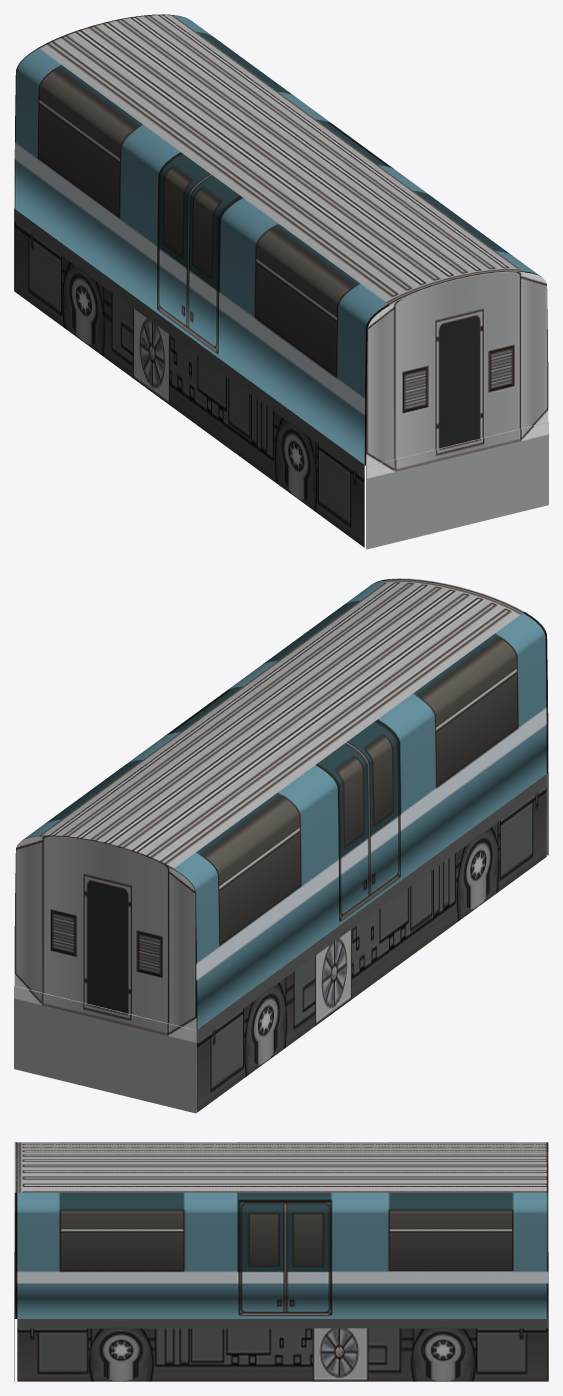
Rendered from car3.glb.
3 views of the same model, one above another, from view 1: azimuth 30°, elevation 25°; view 2: azimuth 150°, elevation 25°; view 3: azimuth 270°, elevation 25° (orthographic). The views are drawn at different scales.
Visible parts, largest first — view 1: kobesinkotu-3000-car3; view 2: kobesinkotu-3000-car3; view 3: kobesinkotu-3000-car3.
Part boxes in pixels (<box>): kobesinkotu-3000-car3: <box>14,14,548,549</box>; kobesinkotu-3000-car3: <box>14,578,548,1113</box>; kobesinkotu-3000-car3: <box>14,1142,548,1381</box>.
Bounding box in the file's own units: 2.51 × 3.26 × 8.43.
Materials: 9 (8 with a texture image).
